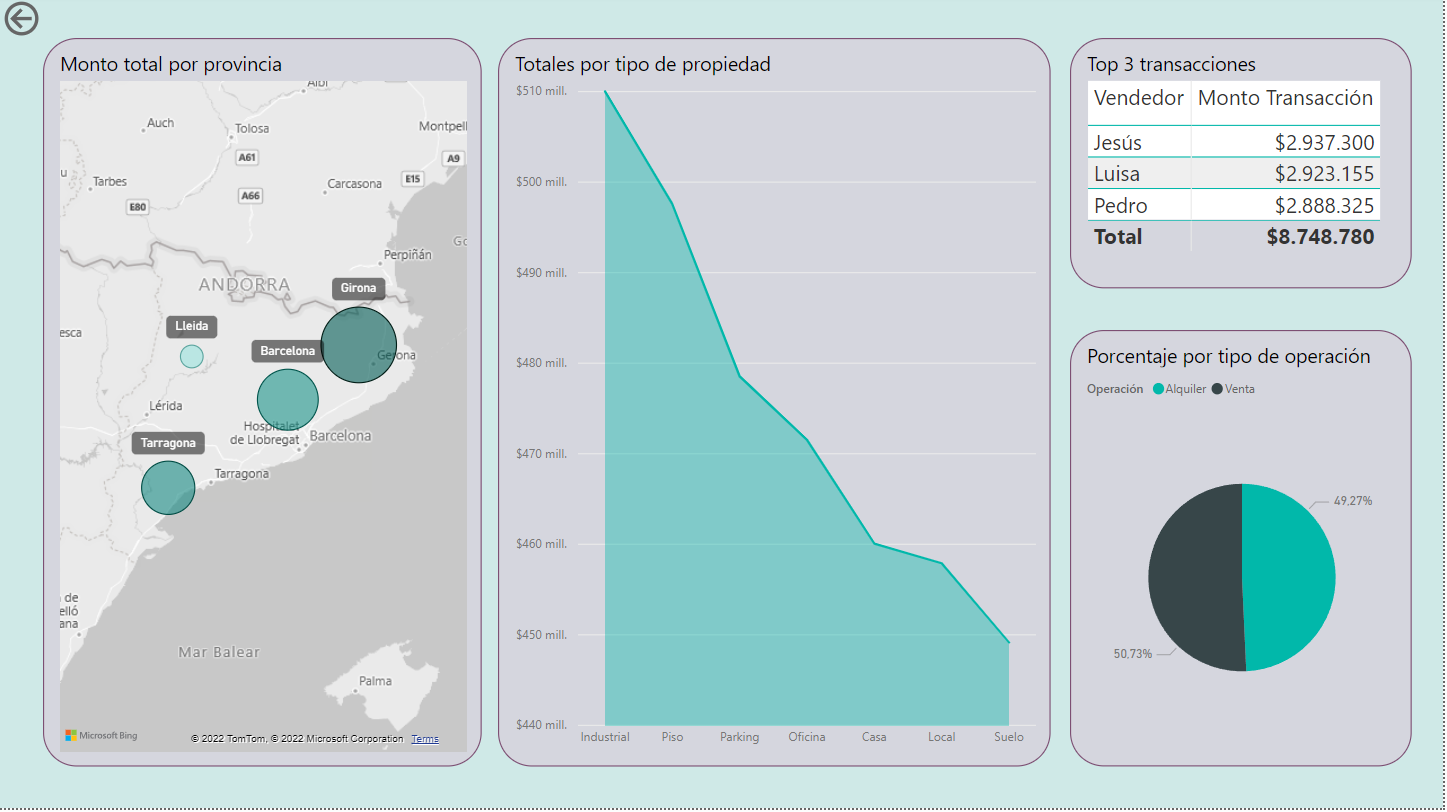

The dashboard page shown, as its layout file describes it:
{"tool":"powerbi","page":{"name":"Página 2","canvas":[1280,720],"ordinal":1},"visuals":[{"type":"tableEx","title":"Top 3 transacciones","fields":{"Values":["Tabla1.Vendedor","Sum(Tabla1.Monto Transacción)"]},"box":[949.7,37.2,303.3,221.7],"z":0},{"type":"actionButton","box":[0,0,100,40],"z":1000},{"type":"areaChart","title":"Totales por tipo de propiedad","fields":{"Category":["Tabla1.Tipo"],"Y":["Sum(Tabla1.Monto Transacción)"]},"box":[442.5,37.2,490.3,645.5],"z":2000},{"type":"pieChart","title":"Porcentaje por tipo de operación","fields":{"Y":["Sum(Tabla1.Monto Transacción)"],"Series":["Tabla1.Operación"]},"box":[949.7,296.2,303.3,386.6],"z":2001},{"type":"map","title":"Monto total por provincia","fields":{"Category":["Tabla1.Provincia"],"Size":["Sum(Tabla1.Monto Transacción)"]},"box":[39,37.2,389.3,645.5],"z":2002}]}

Visuals, with their boxes in screenshot pixels (x1, y1, x2, y2), scaled from the page's 1280x720 canvas onto the 1447x812 screenshot:
"Top 3 transacciones" tableEx: 1074, 42, 1416, 292
actionButton: 0, 0, 113, 45
"Totales por tipo de propiedad" areaChart: 500, 42, 1055, 770
"Porcentaje por tipo de operación" pieChart: 1074, 334, 1416, 770
"Monto total por provincia" map: 44, 42, 484, 770
